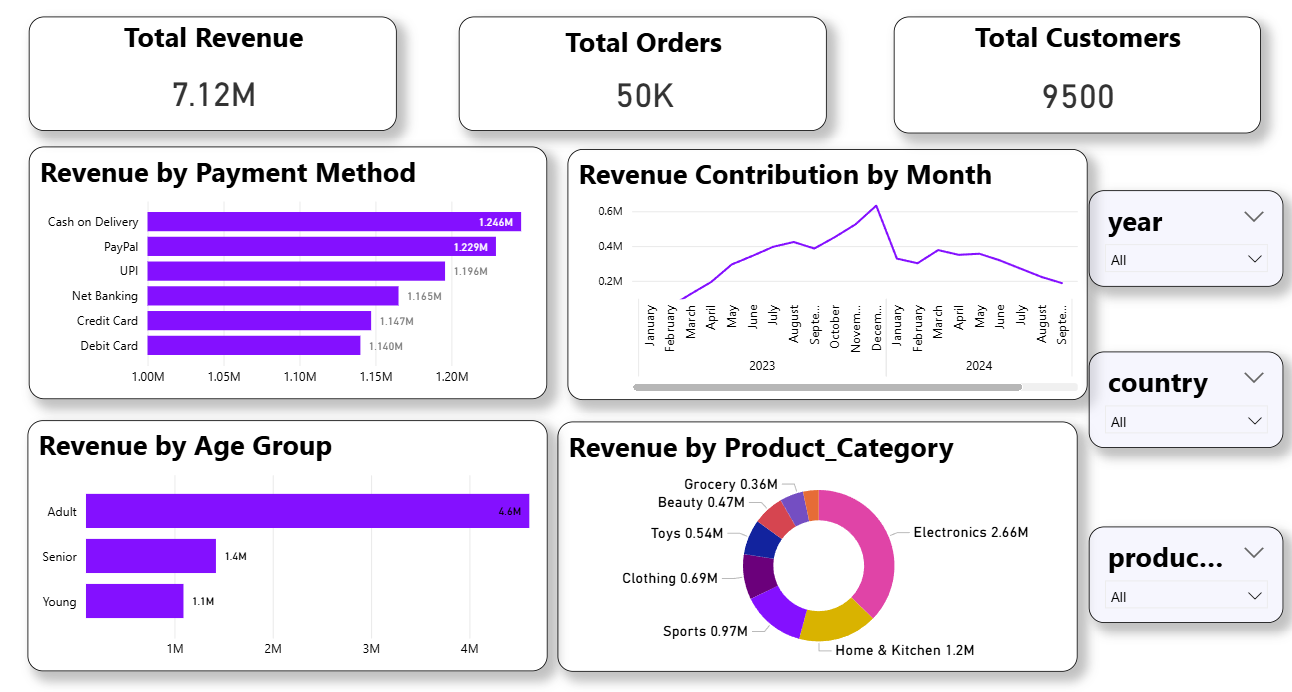

The dashboard page shown, as its layout file describes it:
{"tool":"powerbi","page":{"name":"Business Overview”","canvas":[1280,720],"ordinal":0},"visuals":[{"type":"card","title":"Total Revenue","fields":{"Values":["public ecommerce.Total Revenue"]},"box":[37.3,26.5,360.2,112],"z":0},{"type":"card","title":"Total Orders","fields":{"Values":["public ecommerce.Total Orders"]},"box":[459,26.5,360.2,112],"z":1000},{"type":"card","title":"Total Customers","fields":{"Values":["public ecommerce.Total Customers"]},"box":[884.3,26.5,359,114.5],"z":2000},{"type":"lineChart","title":"Revenue Contribution by Month","fields":{"Y":["public ecommerce.Total Revenue"],"Category":["public ecommerce.transaction_date.Variation.Date Hierarchy.Year","public ecommerce.transaction_date.Variation.Date Hierarchy.Month"]},"box":[564.9,156.5,508.7,245.8],"z":3000},{"type":"clusteredBarChart","title":"Revenue by Payment Method","fields":{"Category":["public ecommerce.payment_method"],"Y":["public ecommerce.Total Revenue"]},"box":[37.9,154.1,507.5,247],"z":4000},{"type":"barChart","title":"Revenue by Age Group","fields":{"Category":["public ecommerce.age_group"],"Y":["public ecommerce.Total Revenue"]},"box":[36.7,421.9,508.7,245.8],"z":5000},{"type":"donutChart","title":"Revenue by Product_Category","fields":{"Category":["public ecommerce.product_category"],"Y":["public ecommerce.Total Revenue"]},"box":[555.2,423.1,508.7,244.6],"z":6000},{"type":"slicer","fields":{"Values":["public ecommerce.year"]},"box":[1074.9,196.9,190.8,94.2],"z":7000},{"type":"slicer","fields":{"Values":["public ecommerce.country"]},"box":[1074.9,354.6,190.8,94.2],"z":8000},{"type":"slicer","fields":{"Values":["public ecommerce.product_category"]},"box":[1074.9,525.8,190.8,94.2],"z":9000}]}

Visuals, with their boxes on the page's 1280x720 design canvas (x1, y1, x2, y2). These are canvas units, not pixel positions in the 1292x692 screenshot, which may show the page scaled, cropped or inside an application window:
"Total Revenue" card: 37:26:398:138
"Total Orders" card: 459:26:819:138
"Total Customers" card: 884:26:1243:141
"Revenue Contribution by Month" lineChart: 565:156:1074:402
"Revenue by Payment Method" clusteredBarChart: 38:154:545:401
"Revenue by Age Group" barChart: 37:422:545:668
"Revenue by Product_Category" donutChart: 555:423:1064:668
slicer - public ecommerce.year: 1075:197:1266:291
slicer - public ecommerce.country: 1075:355:1266:449
slicer - public ecommerce.product_category: 1075:526:1266:620
